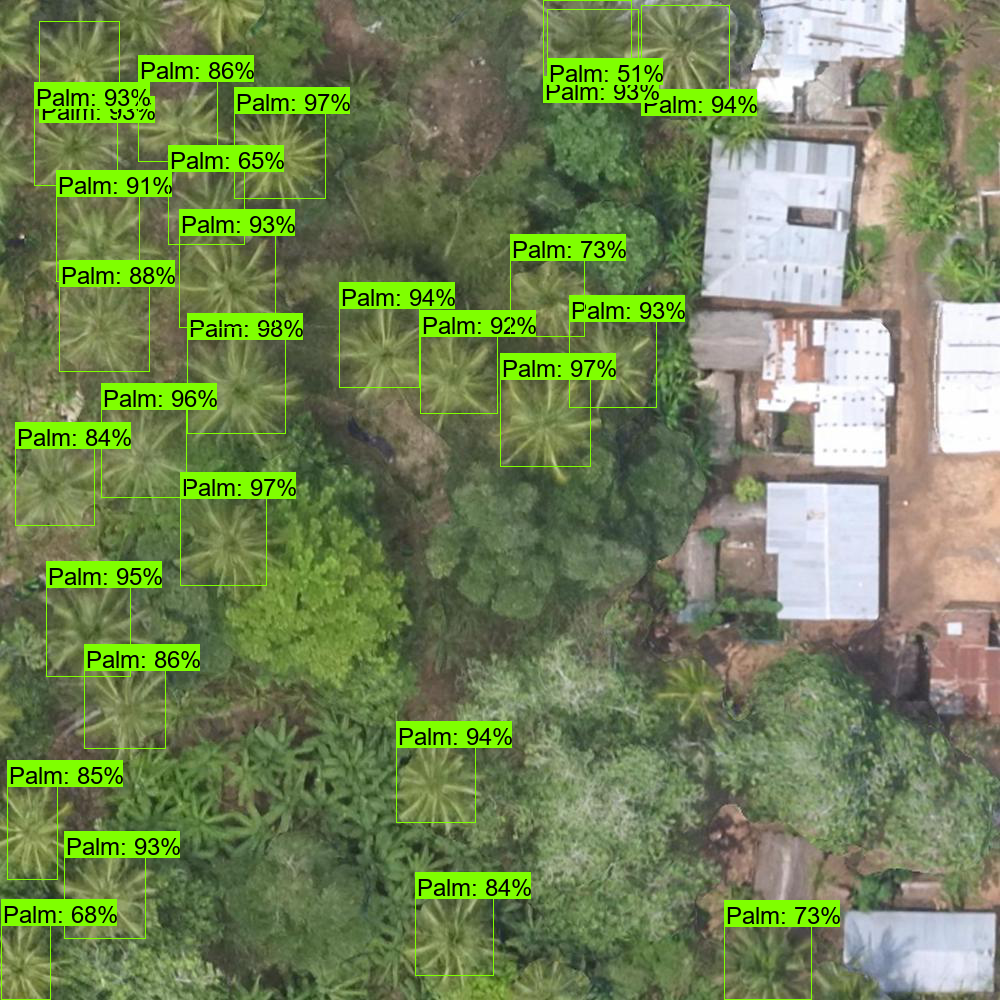not palm: (248, 847, 349, 932), (899, 318, 991, 407), (848, 419, 942, 506), (765, 672, 866, 752), (529, 755, 619, 844), (766, 5, 857, 93), (524, 138, 614, 226), (738, 416, 829, 501), (477, 656, 565, 743), (696, 313, 780, 401), (801, 326, 888, 410), (451, 500, 542, 580), (544, 859, 627, 946), (758, 523, 847, 602), (894, 524, 978, 607), (551, 505, 634, 588), (880, 739, 962, 823), (282, 599, 366, 681), (625, 761, 705, 846), (387, 166, 474, 244), (810, 144, 892, 225), (764, 760, 846, 840), (722, 176, 803, 255)
